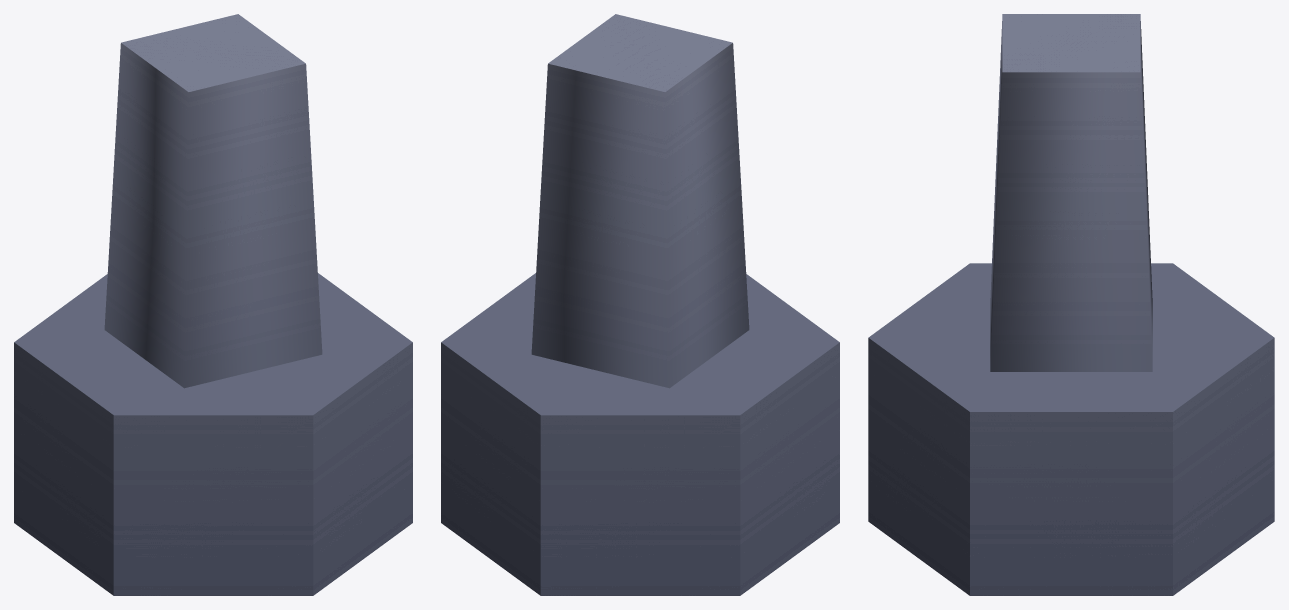
The model's file is debris-bolt.glb.
The picture shows the model from 3 angles, left to right: view 1: azimuth 30°, elevation 25°; view 2: azimuth 150°, elevation 25°; view 3: azimuth 270°, elevation 25°; orthographic projection.
Parts seen in each view (by area): view 1: debris-bolt; view 2: debris-bolt; view 3: debris-bolt.
Part boxes in pixels (x1=…): debris-bolt: x1=14, y1=14, x2=412, y2=595; debris-bolt: x1=441, y1=14, x2=839, y2=595; debris-bolt: x1=868, y1=14, x2=1274, y2=595.
Size of the model in its own units: 0.1732 by 0.26 by 0.2.
1 material, 1 textured.
